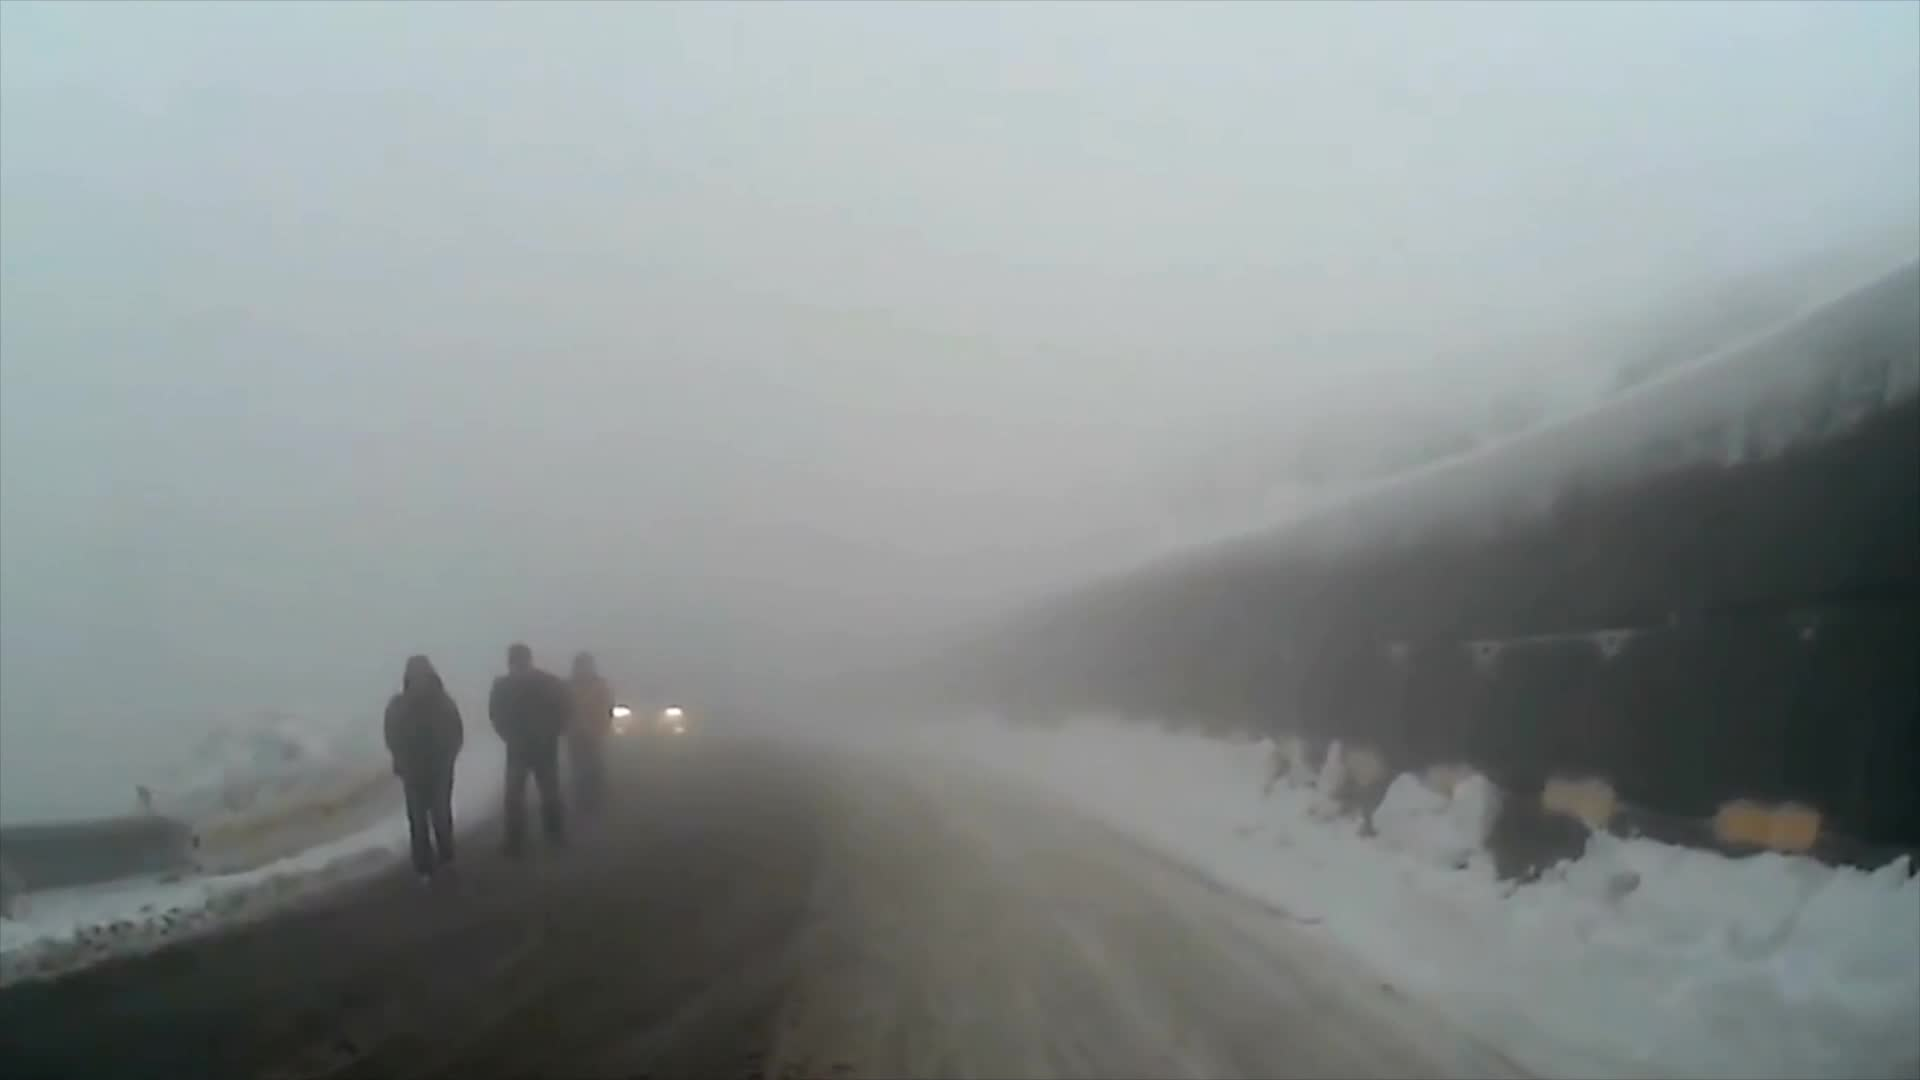pedestrian: (385, 654, 470, 893), (486, 646, 568, 862), (556, 655, 619, 824)
vehicle: (602, 680, 690, 755)
